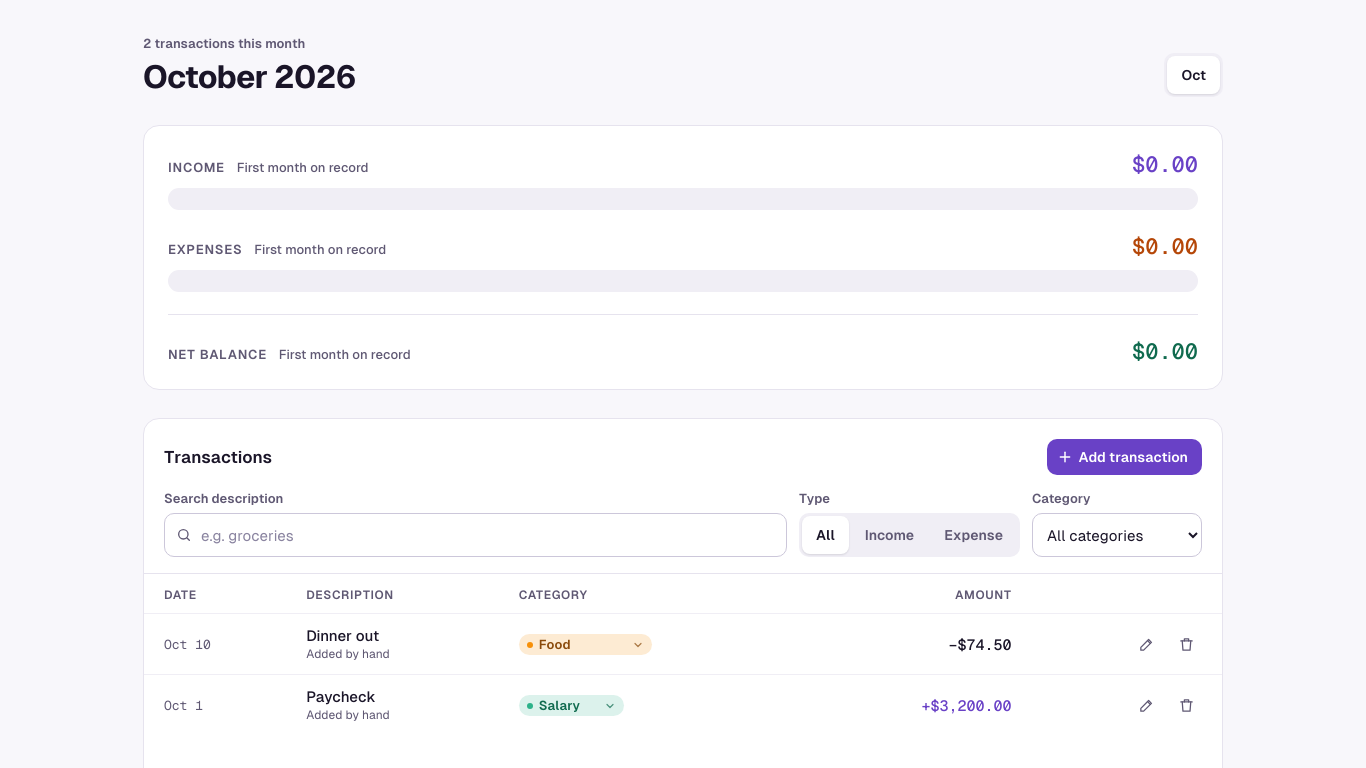
Test: HomePage › edits a transaction in a dialog
The image size is (1366, 768).
Click the button named "Edit Paycheck" at (1146, 705), box [1126,685,1166,725]
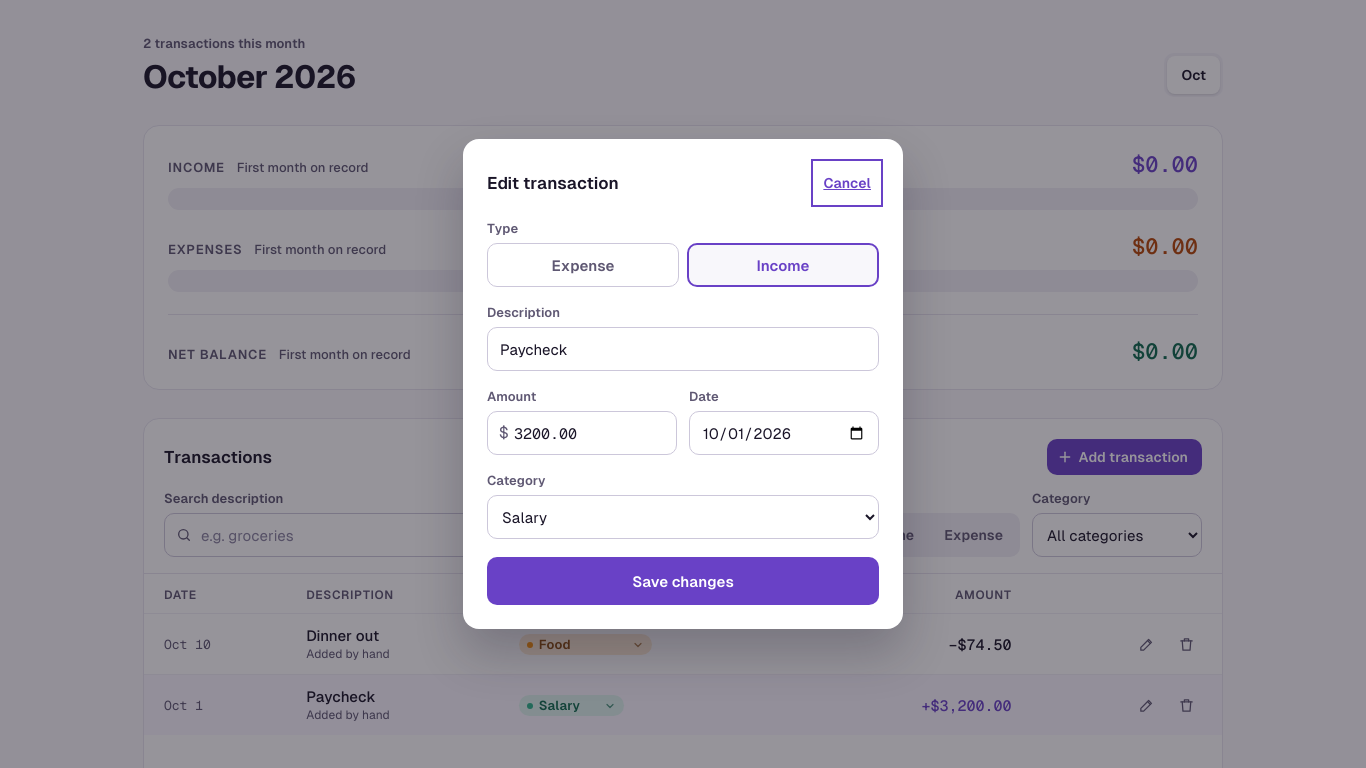
Check: the field labelled "Description" holds "Paycheck", box [487,327,879,371]
Check: the dropdown labelled "Category" shows "Salary", box [487,495,879,539]
Replace the text in the field labelled "Amount" with "3300" at (582, 433), box [487,411,677,455]
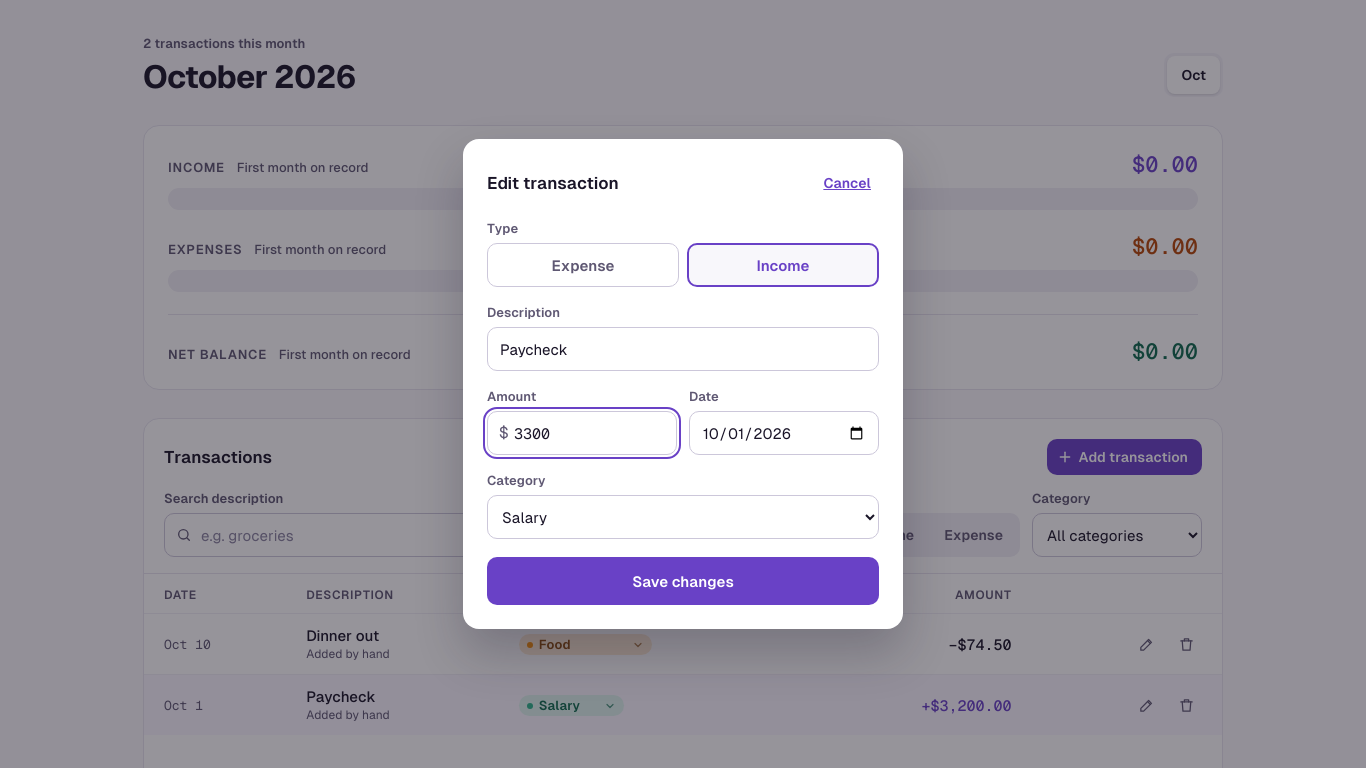
Click the button "Save changes" at (683, 581), box [487,557,879,605]
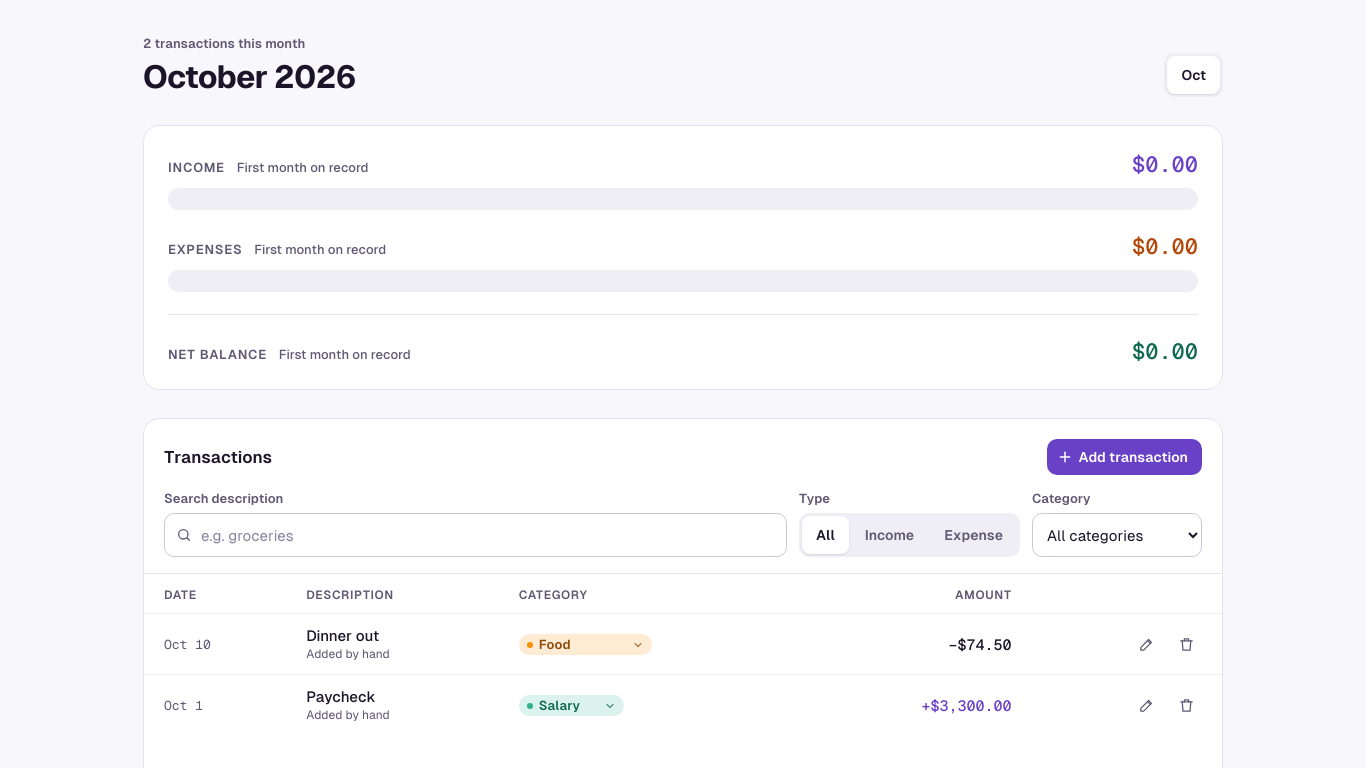
Check: the dialog is gone
